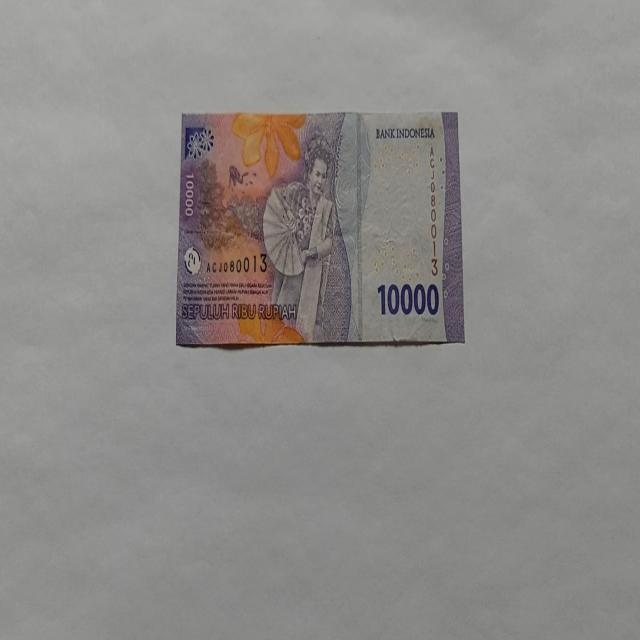sepuluh ribu rupiah: (174, 110, 463, 348), (376, 279, 440, 318)
